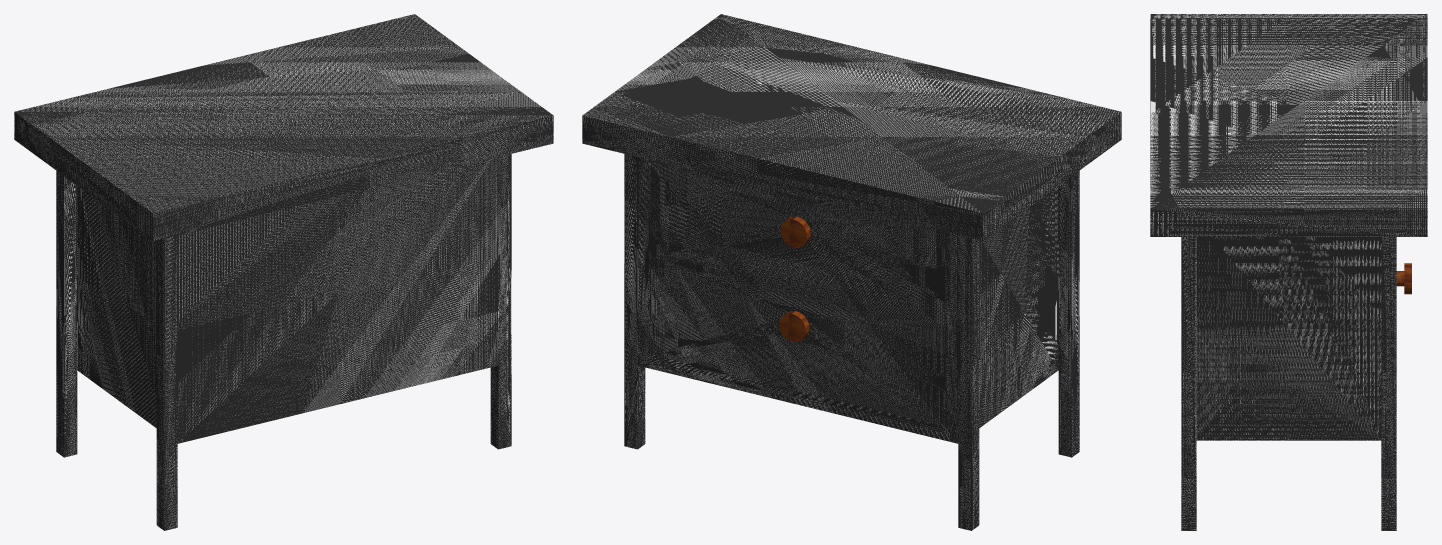
3 renders of one model, left to right at view 1: azimuth 30°, elevation 25°; view 2: azimuth 150°, elevation 25°; view 3: azimuth 270°, elevation 25°, orthographic.
Visible parts, largest first — view 1: mesh2_mesh2-geometry; view 2: mesh2_mesh2-geometry, mesh1_mesh1-geometry; view 3: mesh2_mesh2-geometry, mesh1_mesh1-geometry.
Part boxes in pixels (x1,y1,x2,y2): mesh2_mesh2-geometry: (14,14,553,530); mesh2_mesh2-geometry: (582,14,1121,530); mesh1_mesh1-geometry: (779,216,810,342); mesh2_mesh2-geometry: (1150,14,1427,530); mesh1_mesh1-geometry: (1396,263,1411,294).
Bounding box in the file's own units: 0.7071 × 0.5657 × 0.4243.
